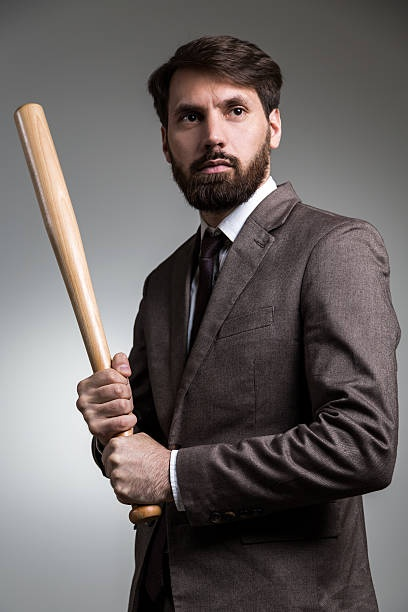bita: (16, 103, 142, 505)
